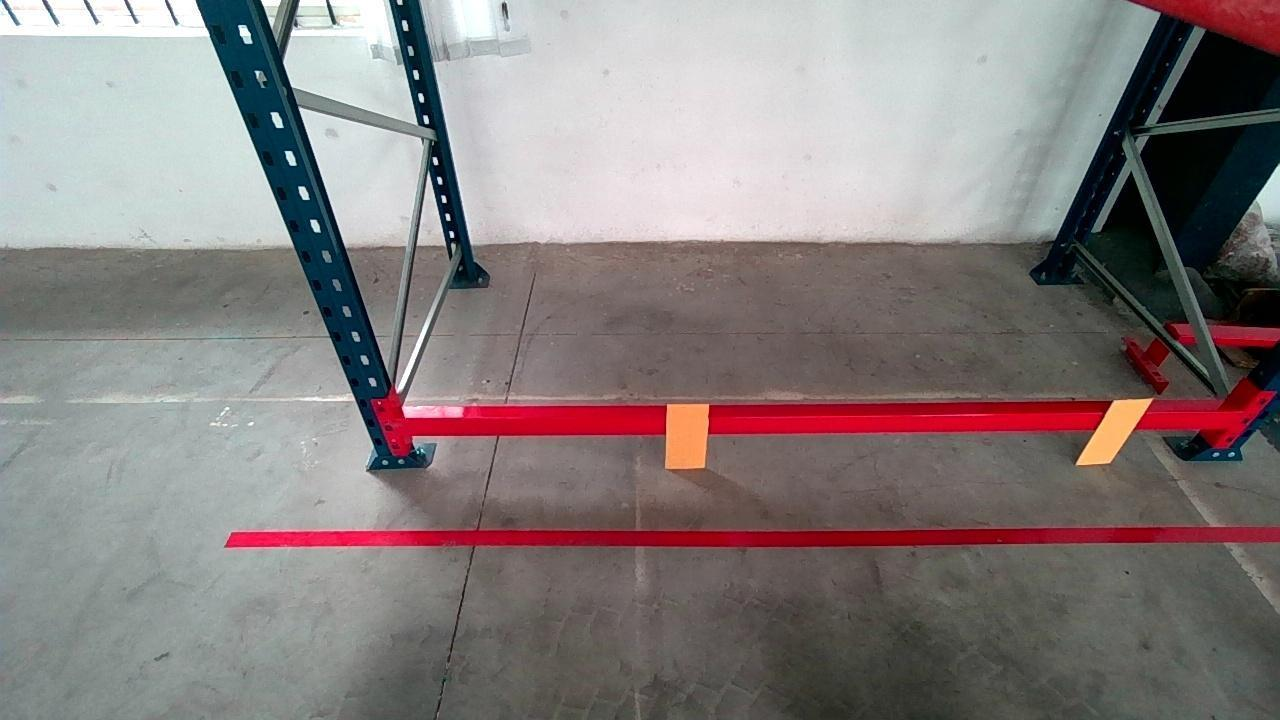h_rack: (395, 411, 1245, 433)
orange_strip: (1077, 398, 1153, 463), (666, 402, 709, 468)
red_line: (224, 523, 1280, 549)
